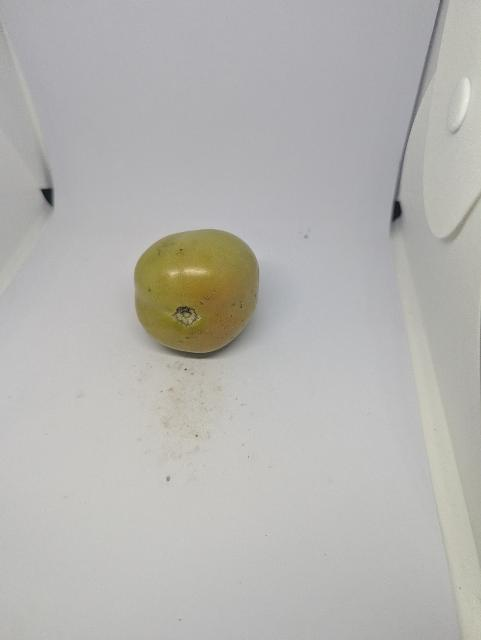breaker: (131, 225, 264, 357)
